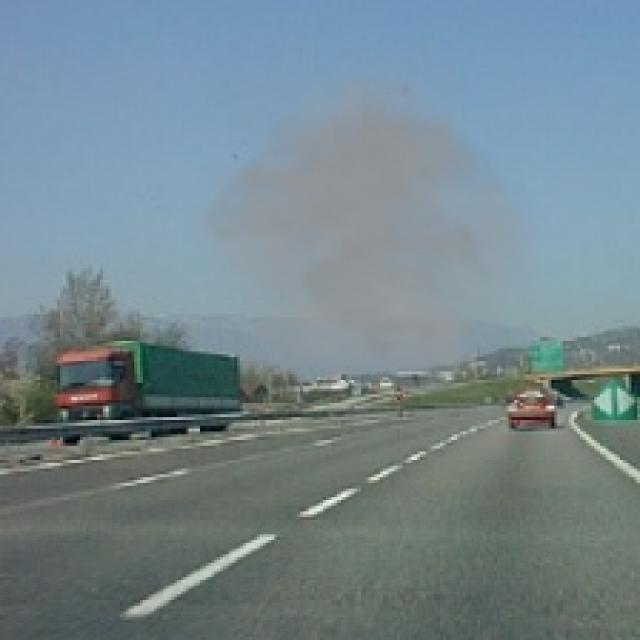smoke: (183, 34, 557, 397)
